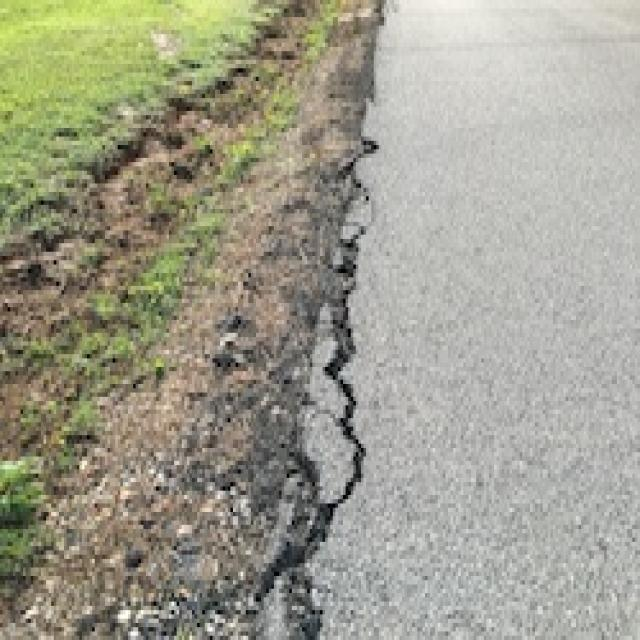Pothole: (48, 63, 625, 640)
